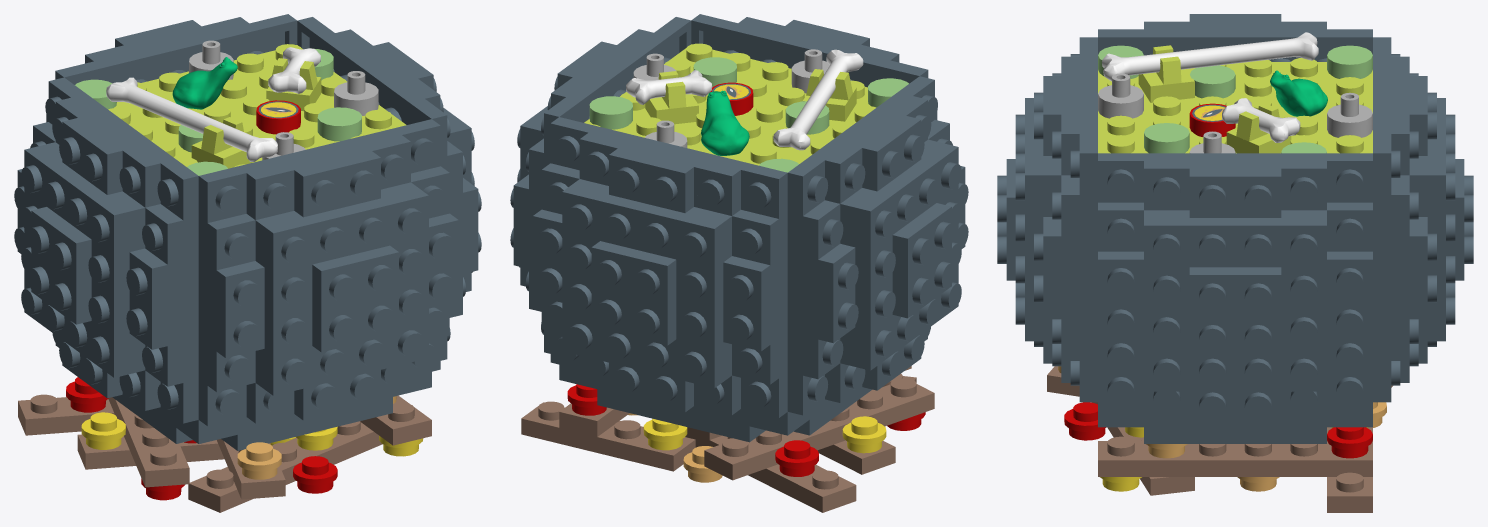
File: Cauldron_3_Final.fbx
3 renders of one model, left to right at view 1: azimuth 30°, elevation 25°; view 2: azimuth 150°, elevation 25°; view 3: azimuth 270°, elevation 25°, orthographic. The views are drawn at different scales.
Visible parts, largest first — view 1: Cauldron_3; view 2: Cauldron_3; view 3: Cauldron_3.
Boxes of the visible parts, x1,y1,x2,y2 form: Cauldron_3: (14, 14, 481, 512); Cauldron_3: (510, 14, 968, 512); Cauldron_3: (997, 14, 1473, 512).
Bounding box in the file's own units: 2080 × 1747 × 2080.
